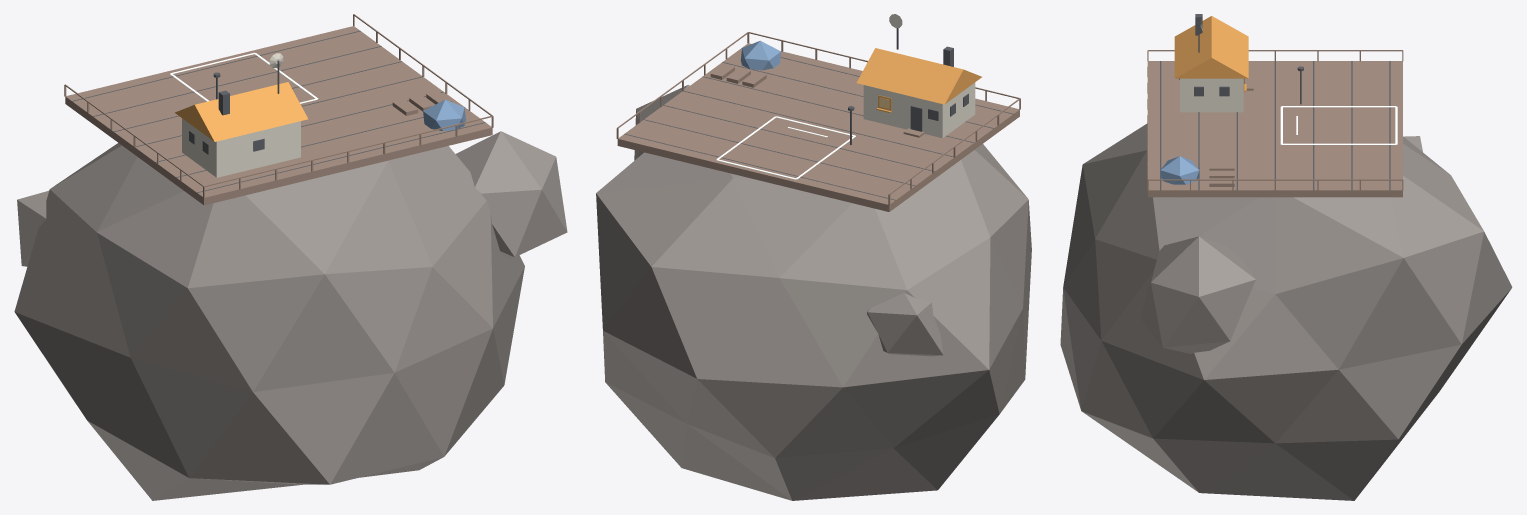
The model's file is Galka.fbx.
3 renders of one model, left to right at view 1: azimuth 30°, elevation 25°; view 2: azimuth 150°, elevation 25°; view 3: azimuth 270°, elevation 25°, orthographic. The views are drawn at different scales.
Parts seen in each view (by area): view 1: Rock, Galka; view 2: Rock, Galka, Marking; view 3: Rock, Galka, Marking.
Part boxes in pixels (x1,y1,x2,y2): Rock: [14, 131, 567, 500]; Galka: [64, 14, 493, 205]; Rock: [596, 85, 1031, 500]; Galka: [616, 14, 1020, 211]; Marking: [716, 116, 855, 179]; Rock: [1060, 123, 1512, 500]; Galka: [1147, 14, 1403, 197]; Marking: [1280, 106, 1397, 144].
Size of the model in its own units: 38.13 by 36.93 by 35.48.
